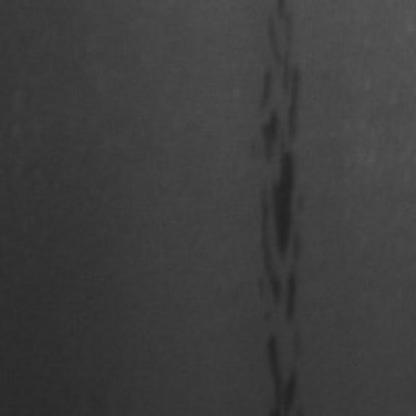inclusion: (252, 0, 312, 364), (264, 318, 312, 408)
